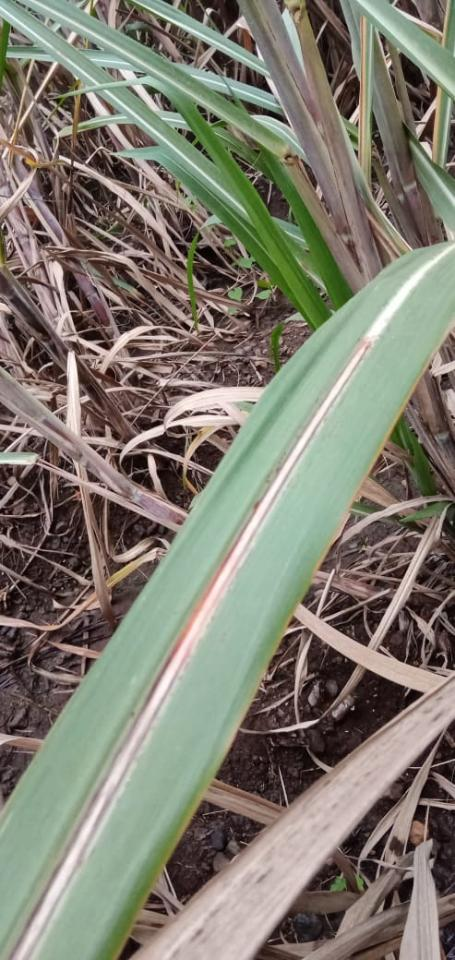RedRot: (7, 336, 372, 959)
